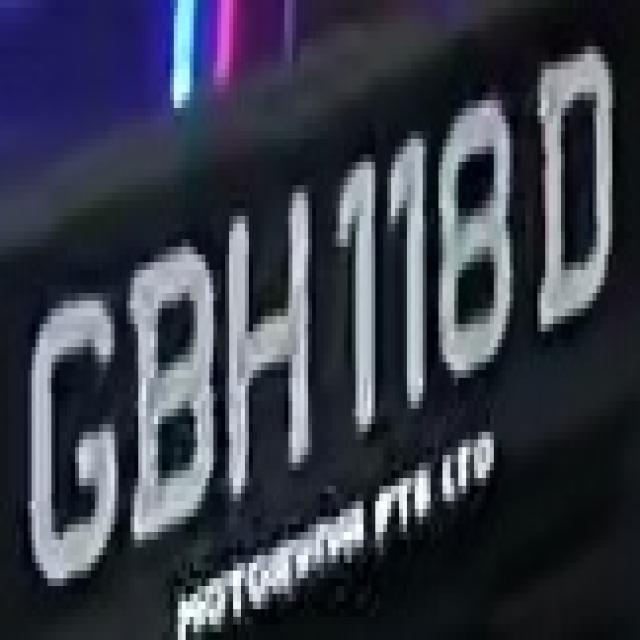1: (387, 108, 443, 463), (336, 108, 383, 493)
8: (430, 77, 526, 416)
B: (115, 216, 221, 555)
D: (526, 16, 620, 340)
G: (20, 262, 122, 609)
H: (229, 193, 328, 532)
